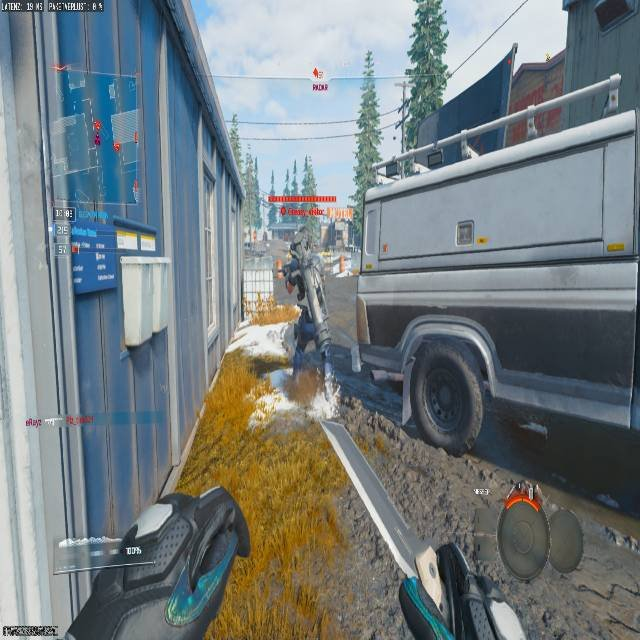head: (294, 226, 310, 251), (291, 227, 305, 246)
player: (279, 223, 342, 405), (278, 235, 319, 312)
